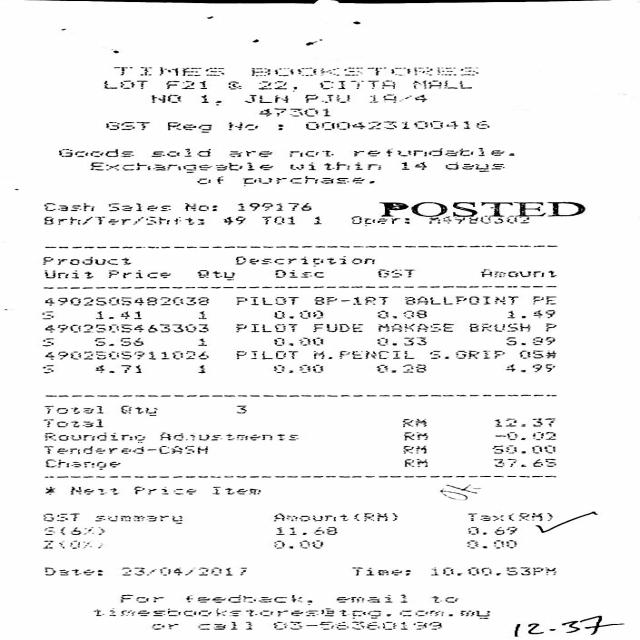text: (92, 608, 488, 618), (376, 201, 584, 216), (305, 120, 489, 130), (248, 68, 477, 76), (89, 162, 271, 172), (42, 445, 207, 454), (272, 621, 440, 629), (242, 176, 374, 186), (42, 324, 207, 332), (44, 296, 208, 304), (351, 148, 513, 156), (234, 255, 374, 264), (159, 432, 297, 441), (428, 567, 556, 576), (119, 567, 246, 576), (43, 351, 206, 358), (184, 594, 310, 603), (110, 66, 222, 76), (42, 217, 202, 224), (42, 432, 144, 442), (273, 512, 397, 520), (402, 296, 516, 304), (312, 350, 412, 359), (288, 161, 379, 170), (427, 216, 528, 224), (44, 459, 118, 469), (92, 515, 182, 523), (41, 256, 130, 264), (478, 268, 556, 277), (376, 323, 452, 332), (258, 108, 328, 117), (467, 322, 529, 332), (311, 296, 388, 304), (410, 79, 471, 89), (465, 513, 552, 520), (318, 80, 394, 88), (56, 149, 132, 157), (150, 148, 210, 158), (348, 566, 408, 576), (236, 202, 310, 210), (491, 458, 555, 467), (445, 161, 502, 171), (335, 594, 406, 602), (233, 323, 296, 332), (106, 269, 168, 278), (234, 350, 296, 359), (41, 567, 102, 576), (42, 526, 102, 535), (490, 445, 556, 453), (233, 296, 298, 304), (428, 351, 502, 358), (504, 336, 554, 346), (108, 203, 170, 211), (40, 405, 102, 413), (492, 418, 554, 426), (40, 419, 102, 427), (275, 526, 337, 534), (133, 486, 194, 494), (41, 540, 102, 548), (348, 216, 408, 224), (95, 310, 142, 320), (272, 337, 324, 346), (208, 486, 260, 495), (464, 539, 516, 548), (368, 94, 426, 102), (166, 122, 211, 132), (42, 269, 92, 278), (312, 323, 362, 332), (376, 337, 426, 346), (67, 486, 116, 495), (197, 621, 251, 629), (493, 432, 554, 439), (270, 364, 323, 372), (103, 121, 150, 130), (118, 405, 156, 416), (464, 526, 516, 534), (242, 94, 288, 103), (271, 540, 322, 548), (376, 310, 426, 318), (272, 310, 322, 318), (94, 338, 144, 346), (504, 364, 554, 372), (374, 364, 424, 372), (274, 269, 322, 277), (376, 268, 414, 278), (196, 270, 234, 280), (93, 365, 140, 373), (42, 512, 79, 522), (506, 310, 552, 318), (102, 80, 147, 88), (304, 94, 349, 102), (117, 594, 162, 602), (44, 203, 94, 210), (164, 80, 205, 88), (256, 81, 295, 89), (288, 150, 332, 157), (516, 350, 554, 358), (227, 150, 270, 157), (148, 94, 179, 103), (225, 121, 256, 130), (261, 216, 294, 224), (183, 202, 215, 210), (399, 162, 426, 170), (429, 595, 456, 603), (150, 622, 177, 630), (531, 296, 556, 304), (401, 418, 426, 426), (401, 432, 426, 440), (401, 445, 426, 453), (401, 458, 426, 466), (198, 94, 220, 103), (195, 176, 222, 183), (223, 216, 245, 224), (39, 364, 54, 373), (40, 310, 53, 320), (542, 322, 555, 331), (225, 80, 239, 88), (40, 338, 53, 346), (196, 364, 206, 374), (234, 405, 246, 413), (196, 310, 206, 319), (312, 216, 320, 224), (197, 338, 205, 346)
